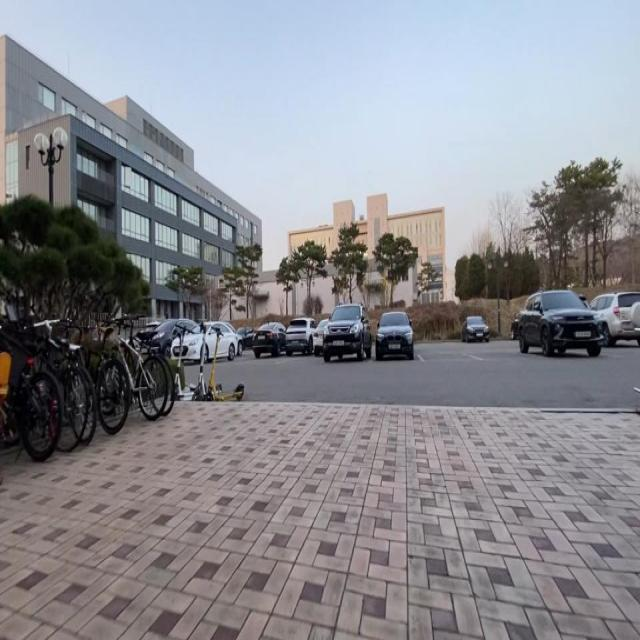sidewalk: (0, 399, 640, 640)
